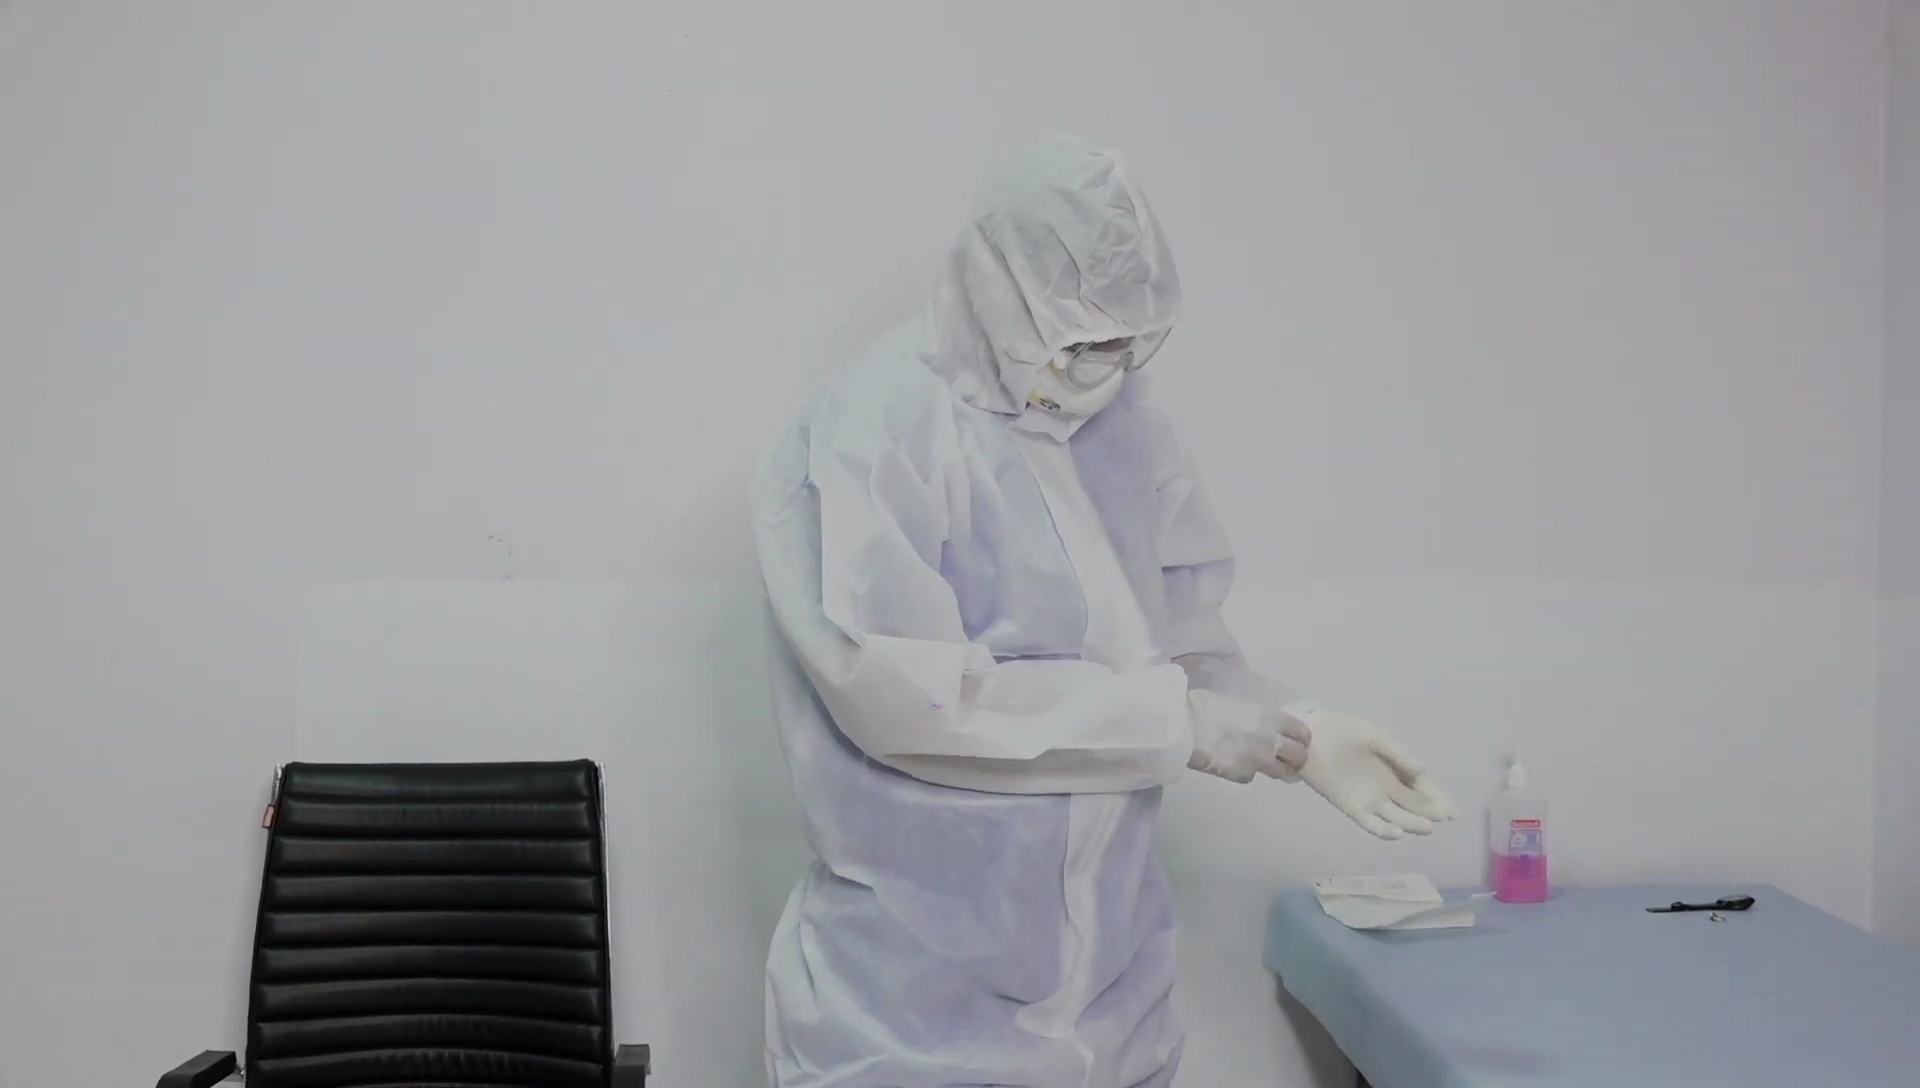Coverall: (755, 133, 1251, 1086)
Gloves: (1297, 707, 1464, 842), (1188, 690, 1314, 787)
Goggles: (1056, 323, 1174, 391)
with_mask: (1026, 358, 1126, 422)
